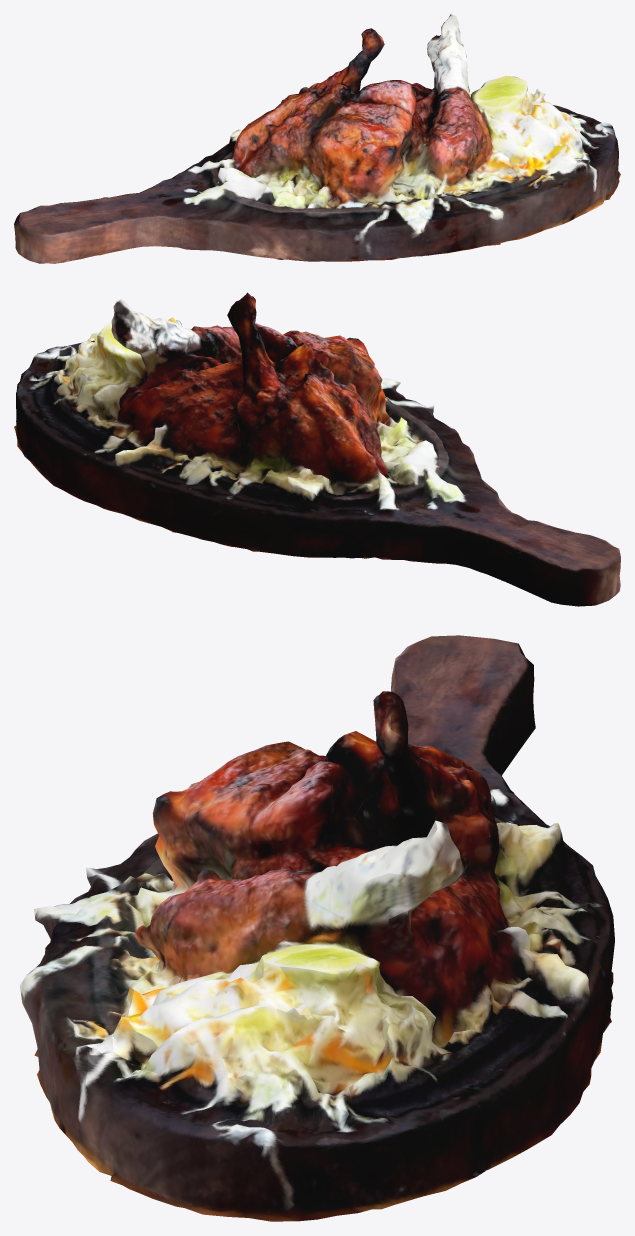
Rendered from chicken.glb.
3 renders of one model, top to bottom at view 1: azimuth 30°, elevation 25°; view 2: azimuth 150°, elevation 25°; view 3: azimuth 270°, elevation 25°, orthographic. The views are drawn at different scales.
Visible parts, largest first — view 1: Object_2; view 2: Object_2; view 3: Object_2.
Part boxes in pixels (x1=…): Object_2: x1=14, y1=14, x2=620, y2=263; Object_2: x1=14, y1=292, x2=620, y2=606; Object_2: x1=20, y1=635, x2=614, y2=1221.
Bounding box in the file's own units: 374 × 107 × 178.
1 material, 1 textured.
